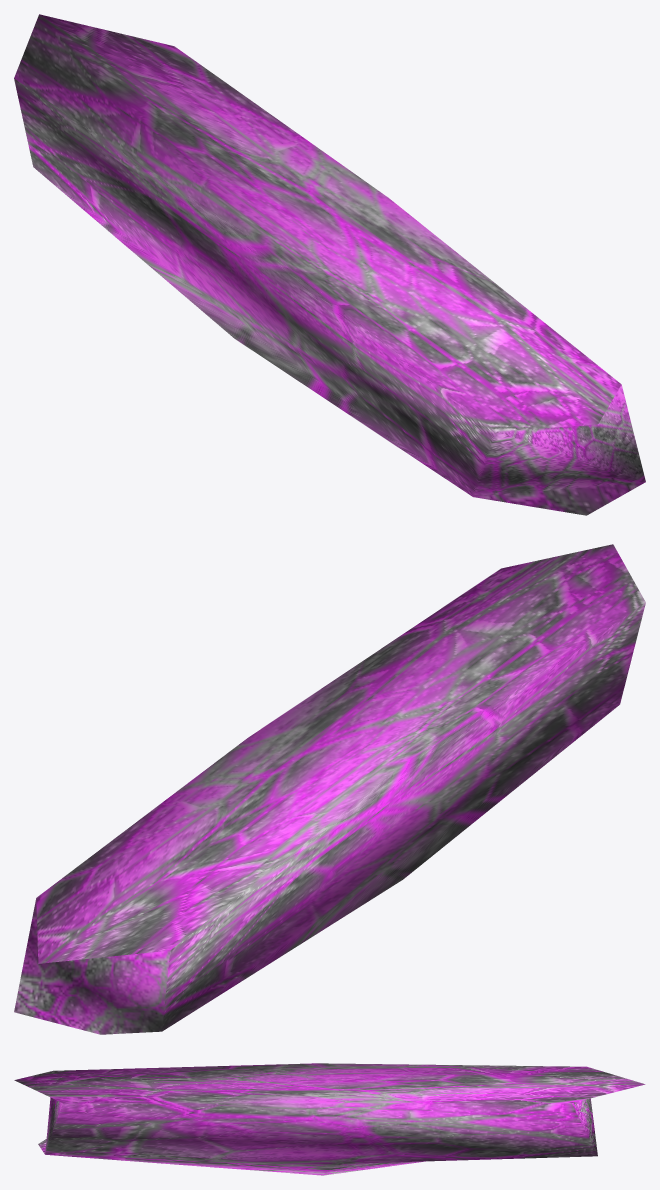
File: platformstraight.fbx
3 renders of one model, top to bottom at view 1: azimuth 30°, elevation 25°; view 2: azimuth 150°, elevation 25°; view 3: azimuth 270°, elevation 25°, orthographic. The views are drawn at different scales.
Visible parts, largest first — view 1: Cube_001; view 2: Cube_001; view 3: Cube_001.
Boxes of the visible parts, x1,y1,x2,y2 form: Cube_001: (14,14,645,515); Cube_001: (14,544,645,1034); Cube_001: (14,1063,645,1175).
Size of the model in its own units: 0.8124 by 0.762 by 4.74.
